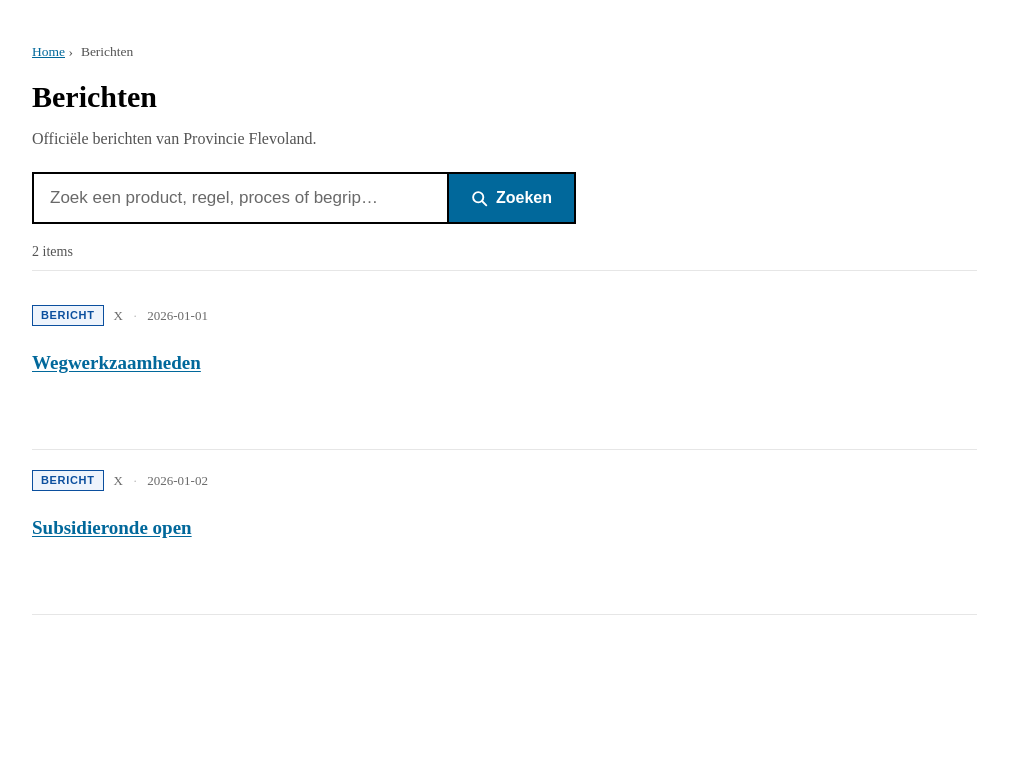
Scenario: SectionIndex (berichten) › a local filter narrows the visible items by title
The width and height of the screenshot is (1024, 768).
Expected: the link "Wegwerkzaamheden" is shown, [32, 352, 201, 373]
Type "subsidie" into the search field named "Zoek in de publieke kennisbank". click: coordinates (240, 198)
box: [32, 172, 447, 224]
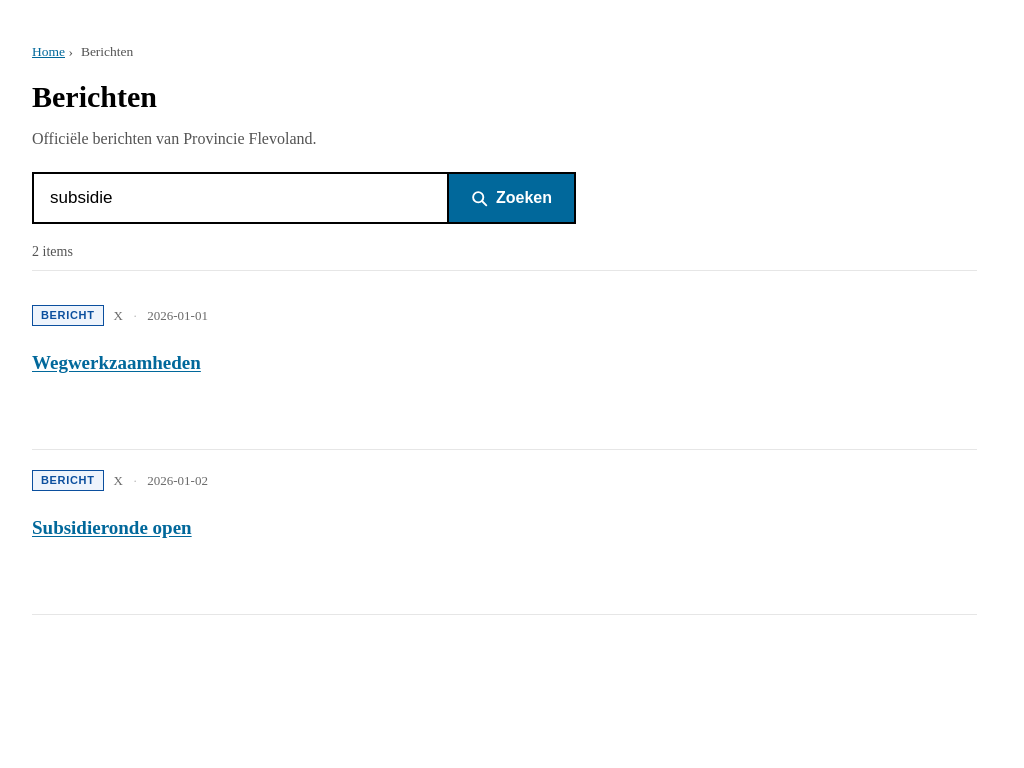
Submit the form, box [32, 172, 576, 224]
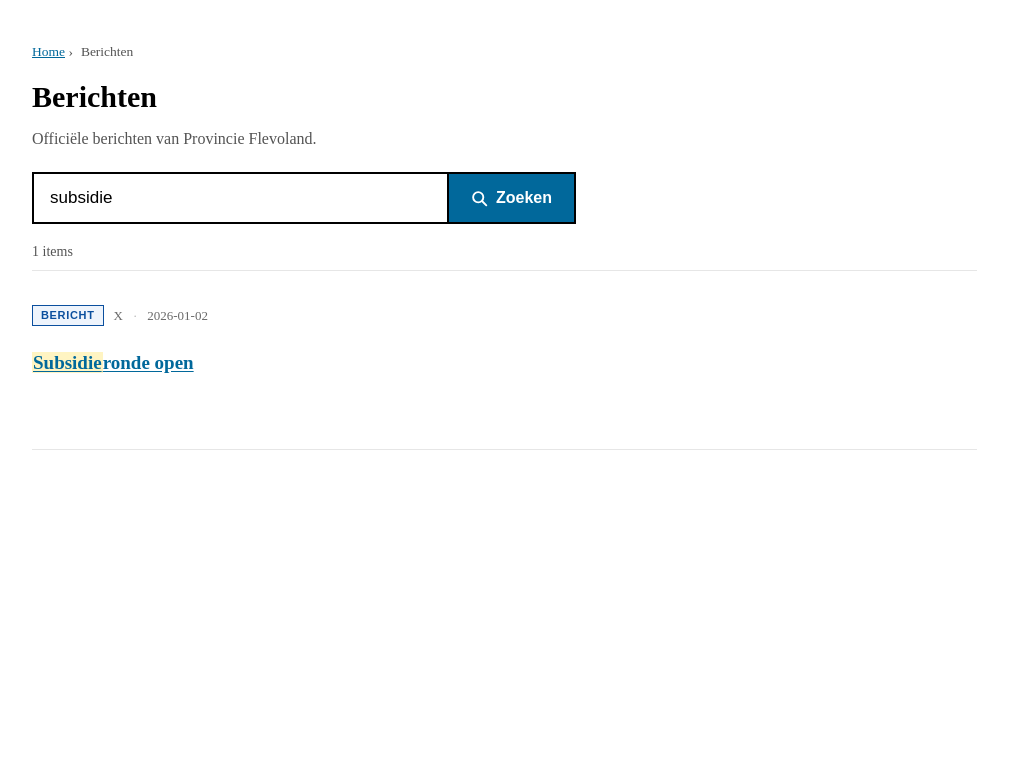
Expected: the link "Subsidieronde open" is shown, [32, 352, 194, 373]
Result: the link "Wegwerkzaamheden" is gone
